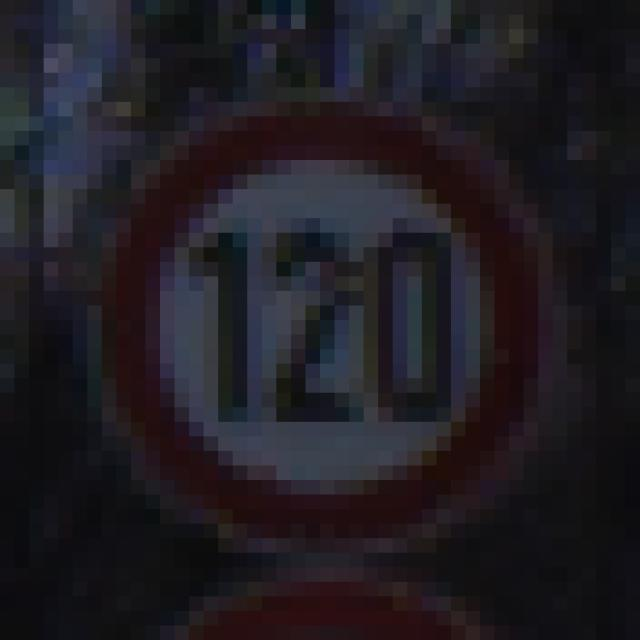Ograniczenie predkosci do 120: (114, 102, 536, 547)
